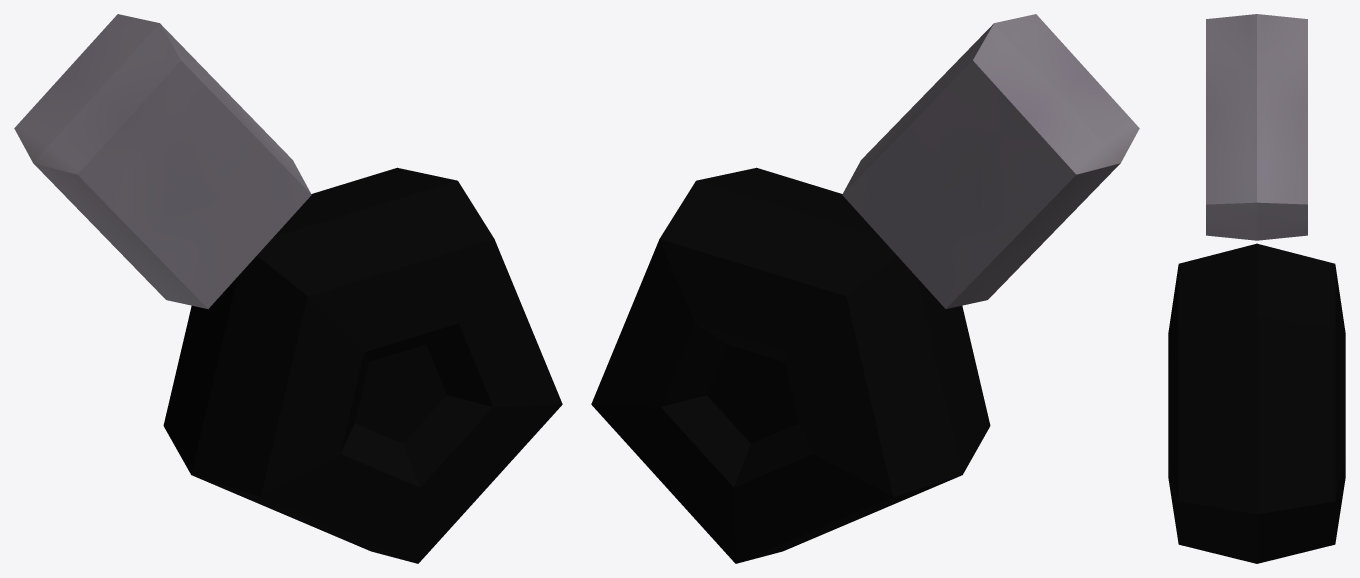
The model's file is WW2BomberBackWheels.fbx.
3 renders of one model, left to right at view 1: azimuth 30°, elevation 25°; view 2: azimuth 150°, elevation 25°; view 3: azimuth 270°, elevation 25°, orthographic. The views are drawn at different scales.
Visible parts, largest first — view 1: Cube.006; view 2: Cube.006; view 3: Cube.006.
Boxes of the visible parts, <box> form: Cube.006: <box>14,14,562,563</box>; Cube.006: <box>591,14,1139,563</box>; Cube.006: <box>1168,14,1345,563</box>.
Bounding box in the file's own units: 14.41 × 15.88 × 5.48.
